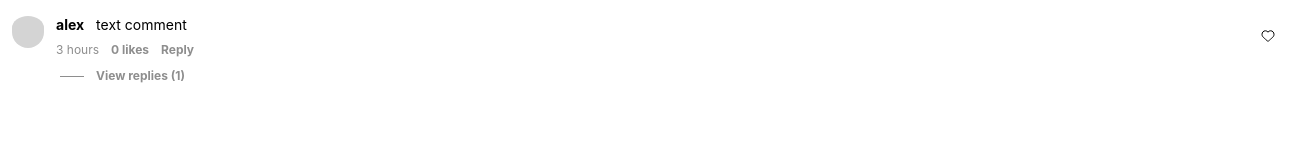
Test: Show correct context when user click reply button
Check: the text with test id "reply-text" shows "View replies", box [96, 68, 168, 83]
Click the element with test id "reply-button".
click(140, 76)  # box [96, 68, 185, 83]
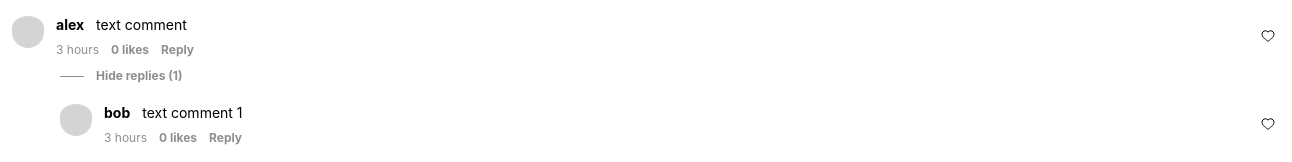
Check: the text with test id "reply-text" shows "Hide replies", box [96, 68, 166, 83]
